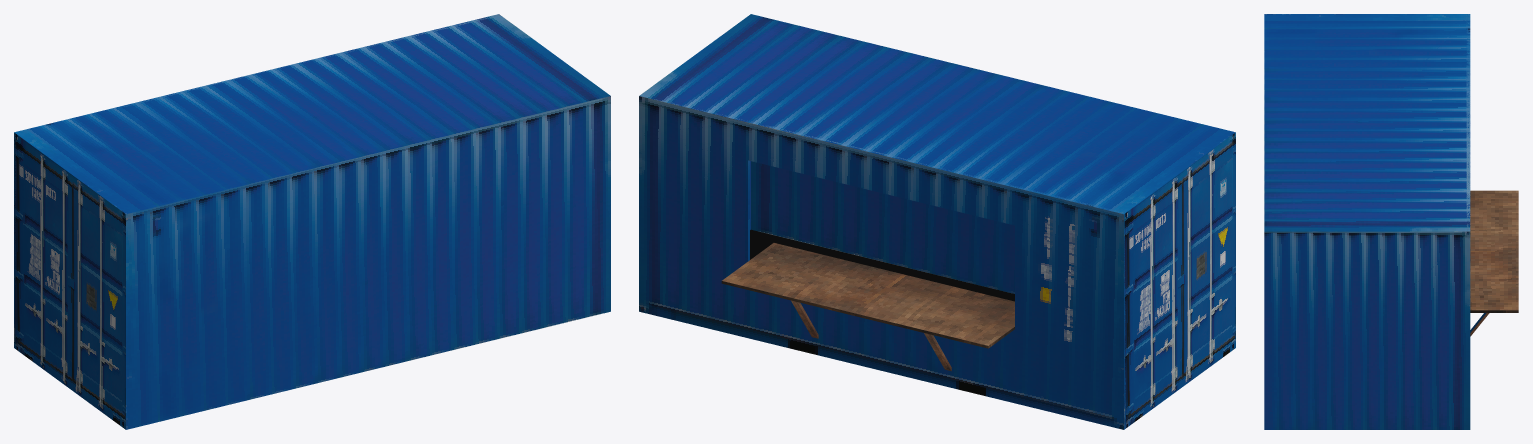
The model's file is ShippingContainerShop.glb.
The picture shows the model from 3 angles, left to right: view 1: azimuth 30°, elevation 25°; view 2: azimuth 150°, elevation 25°; view 3: azimuth 270°, elevation 25°; orthographic projection. The views are drawn at different scales.
Visible parts, largest first — view 1: Cube.001; view 2: Cube.001; view 3: Cube.001.
Boxes of the visible parts, left/top/right/bottom form: Cube.001: left=14, top=14, right=610, bottom=429; Cube.001: left=639, top=14, right=1235, bottom=429; Cube.001: left=1264, top=14, right=1518, bottom=429.
Bounding box in the file's own units: 20 × 8.5 × 9.89.
Materials: 3 (3 with a texture image).
